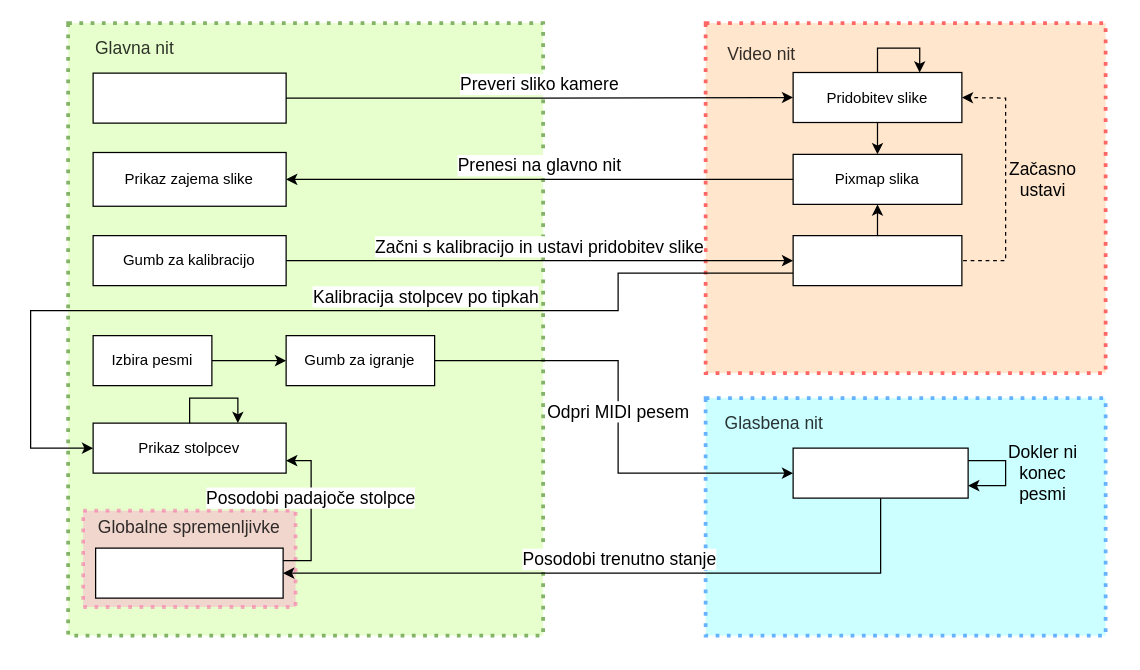
This 1140x670 diagram has some shape labels left out. The shapes that lost their labels are listed below. From the top down, each one's box as (x1, y1, x2, y2) in pixels, then its label:
(92, 72, 286, 123): Vnosna polja IP/PORT
(792, 234, 962, 286): Detekcija klaviature
(792, 447, 968, 498): Preberi MIDI sporočila
(94, 547, 283, 598): Trenutne note
